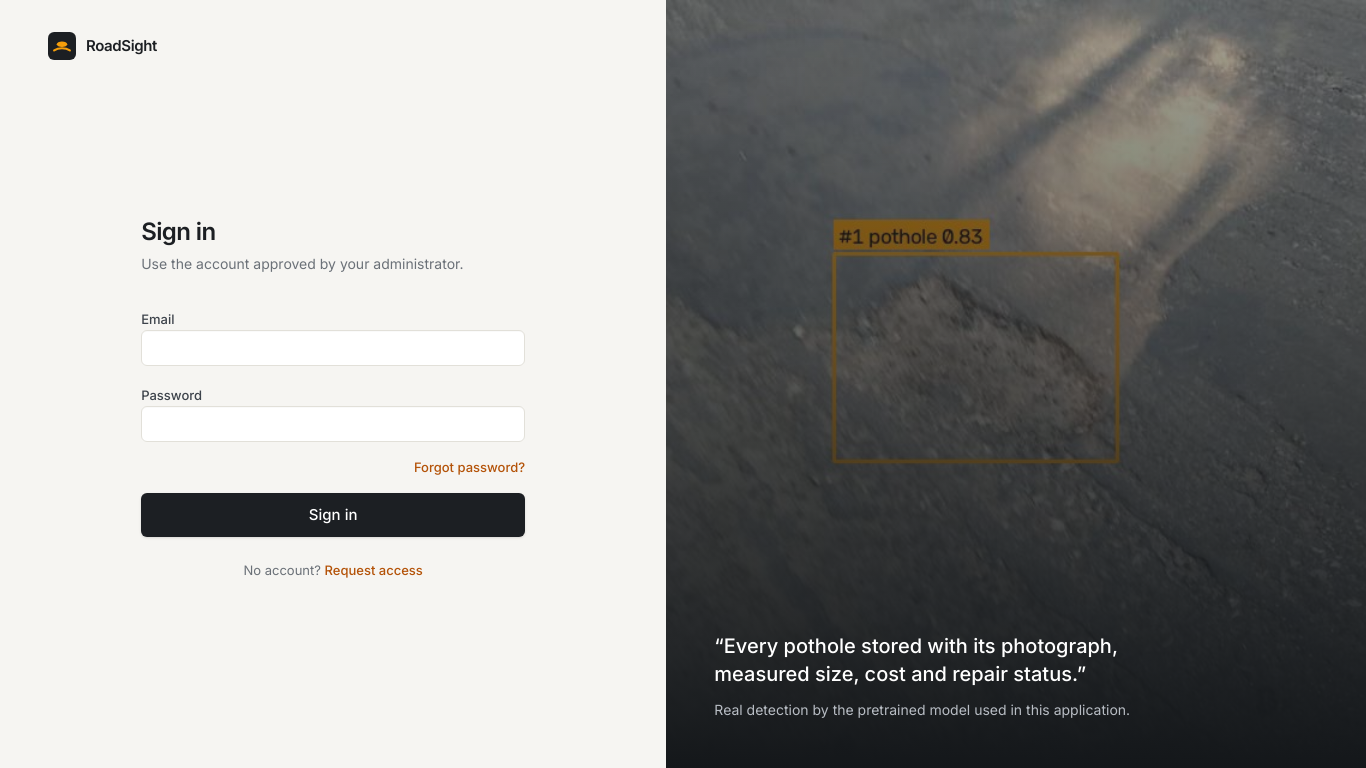
Scenario: login › shows the server error message on failed sign-in
Type "a@b.in" into the field labelled "Email" at (333, 348), box [141,330,525,366]
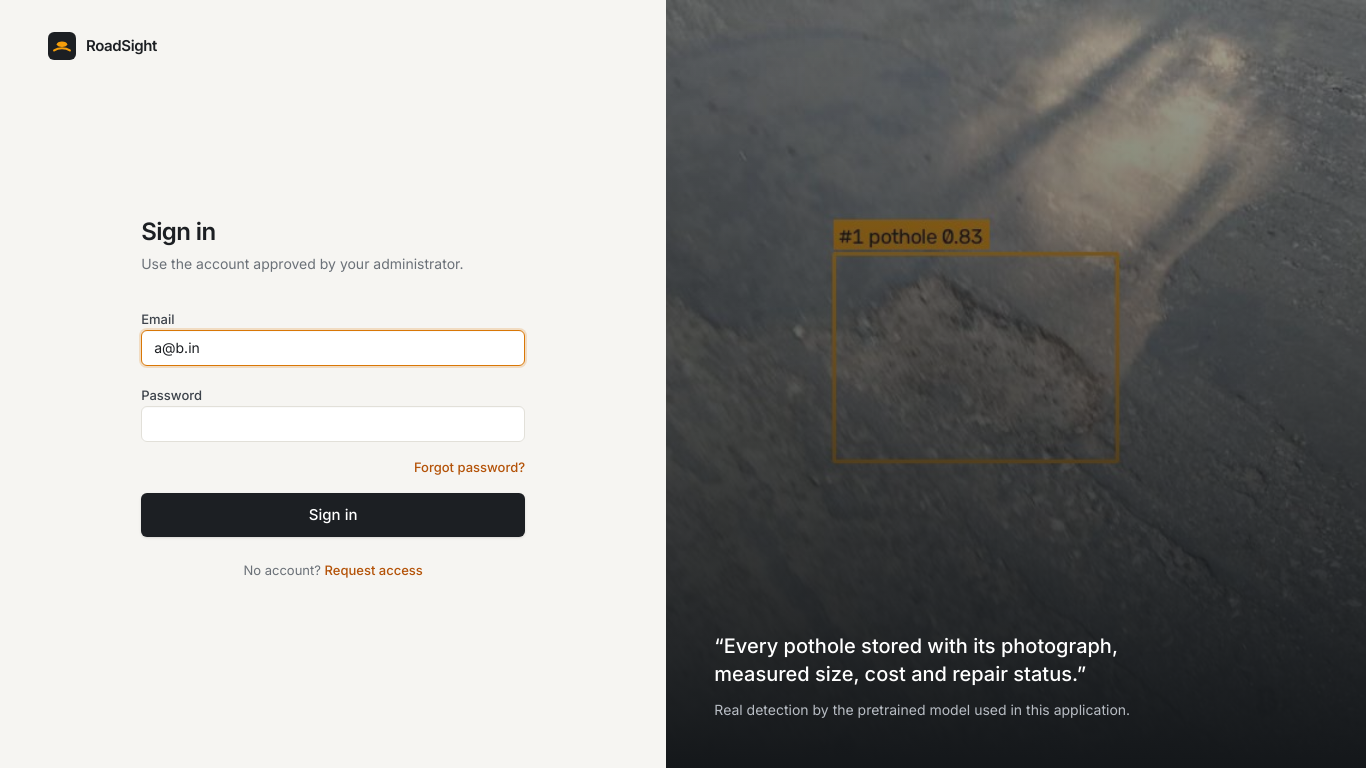
Type "wrongpass1" into the password field labelled "Password" at (333, 424), box [141,406,525,442]
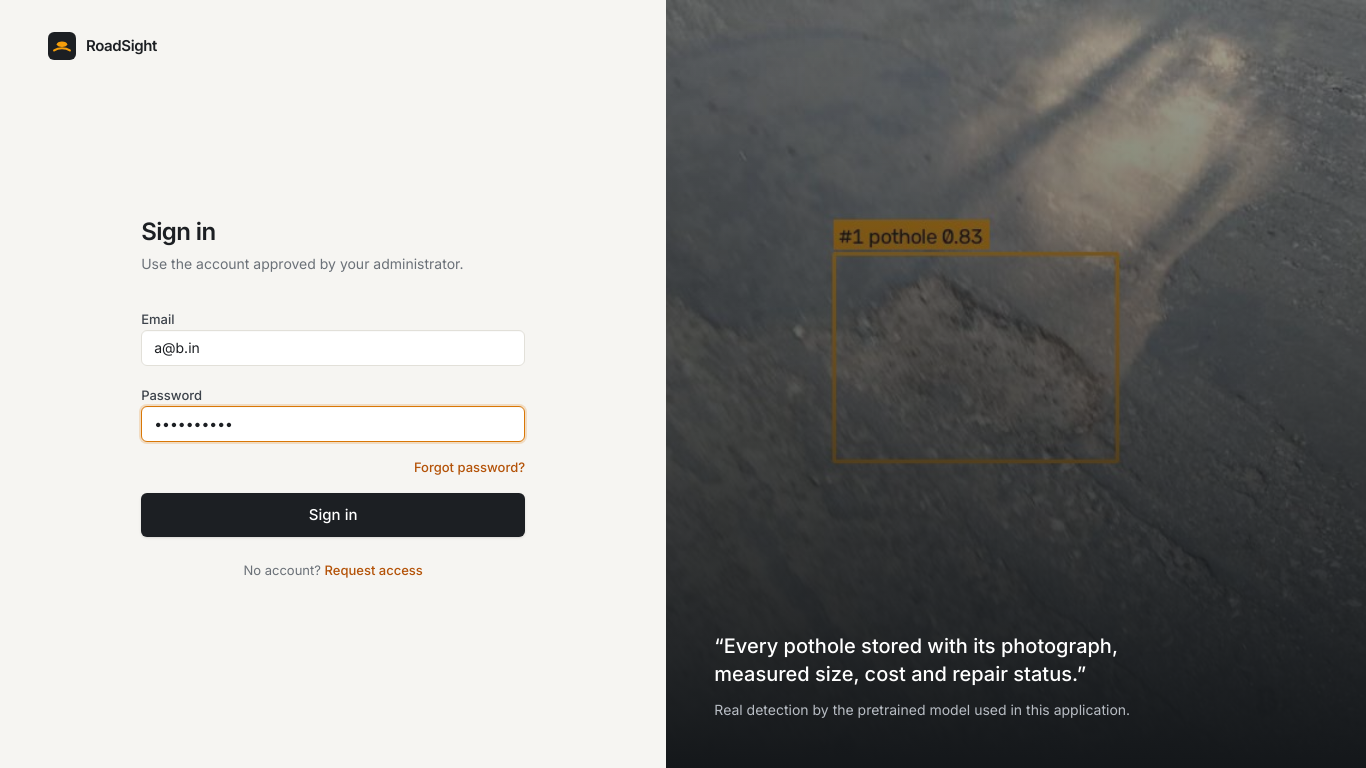
Click the button "Sign in" at (333, 515), box [141,493,525,537]
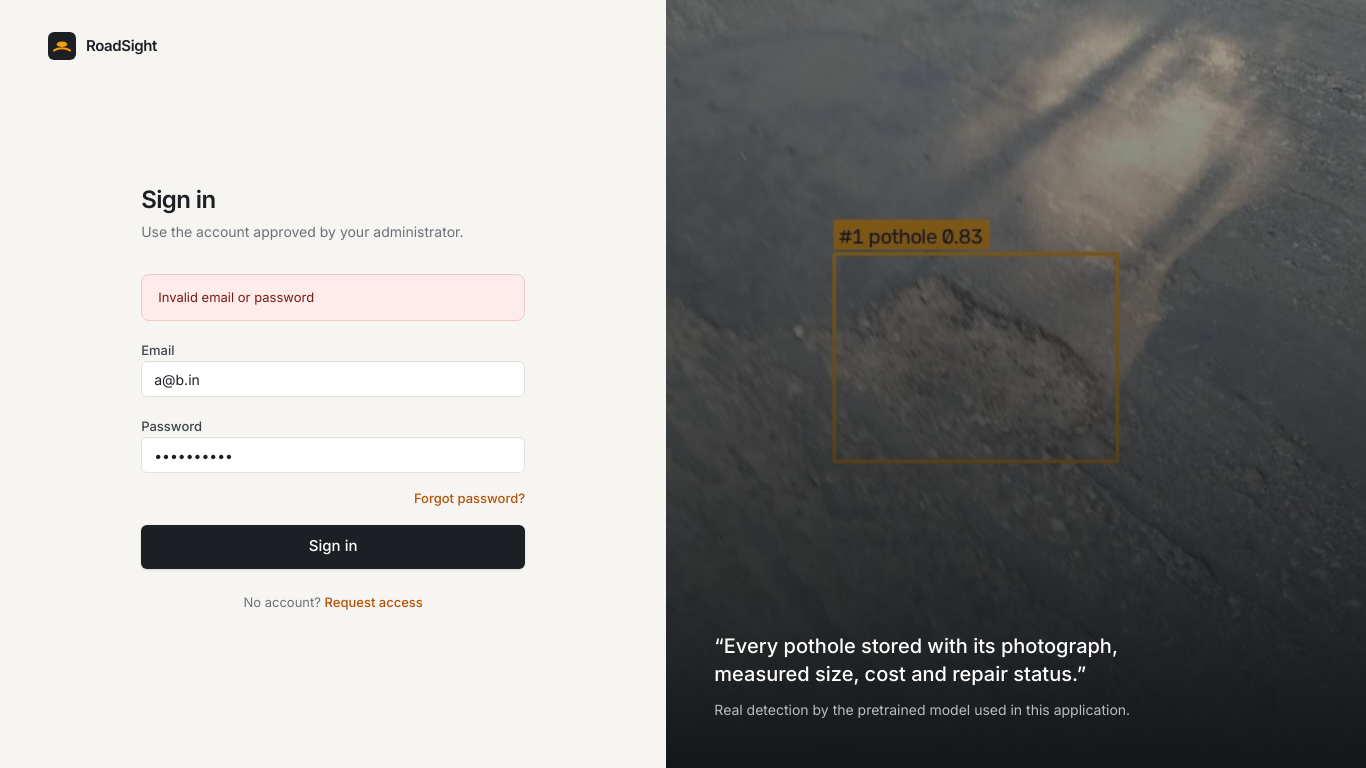
expect the text "Invalid email or password" is shown: met, box [158,287,314,308]
